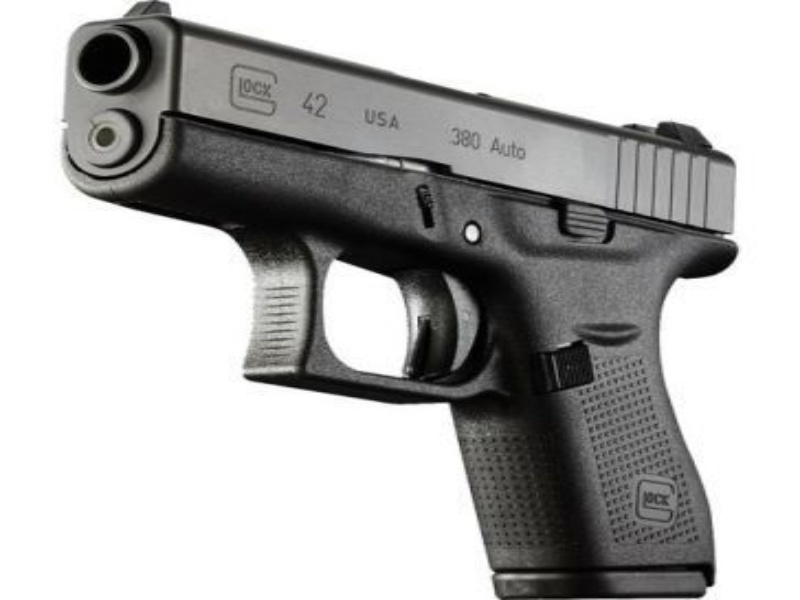gun: (63, 1, 755, 598)
